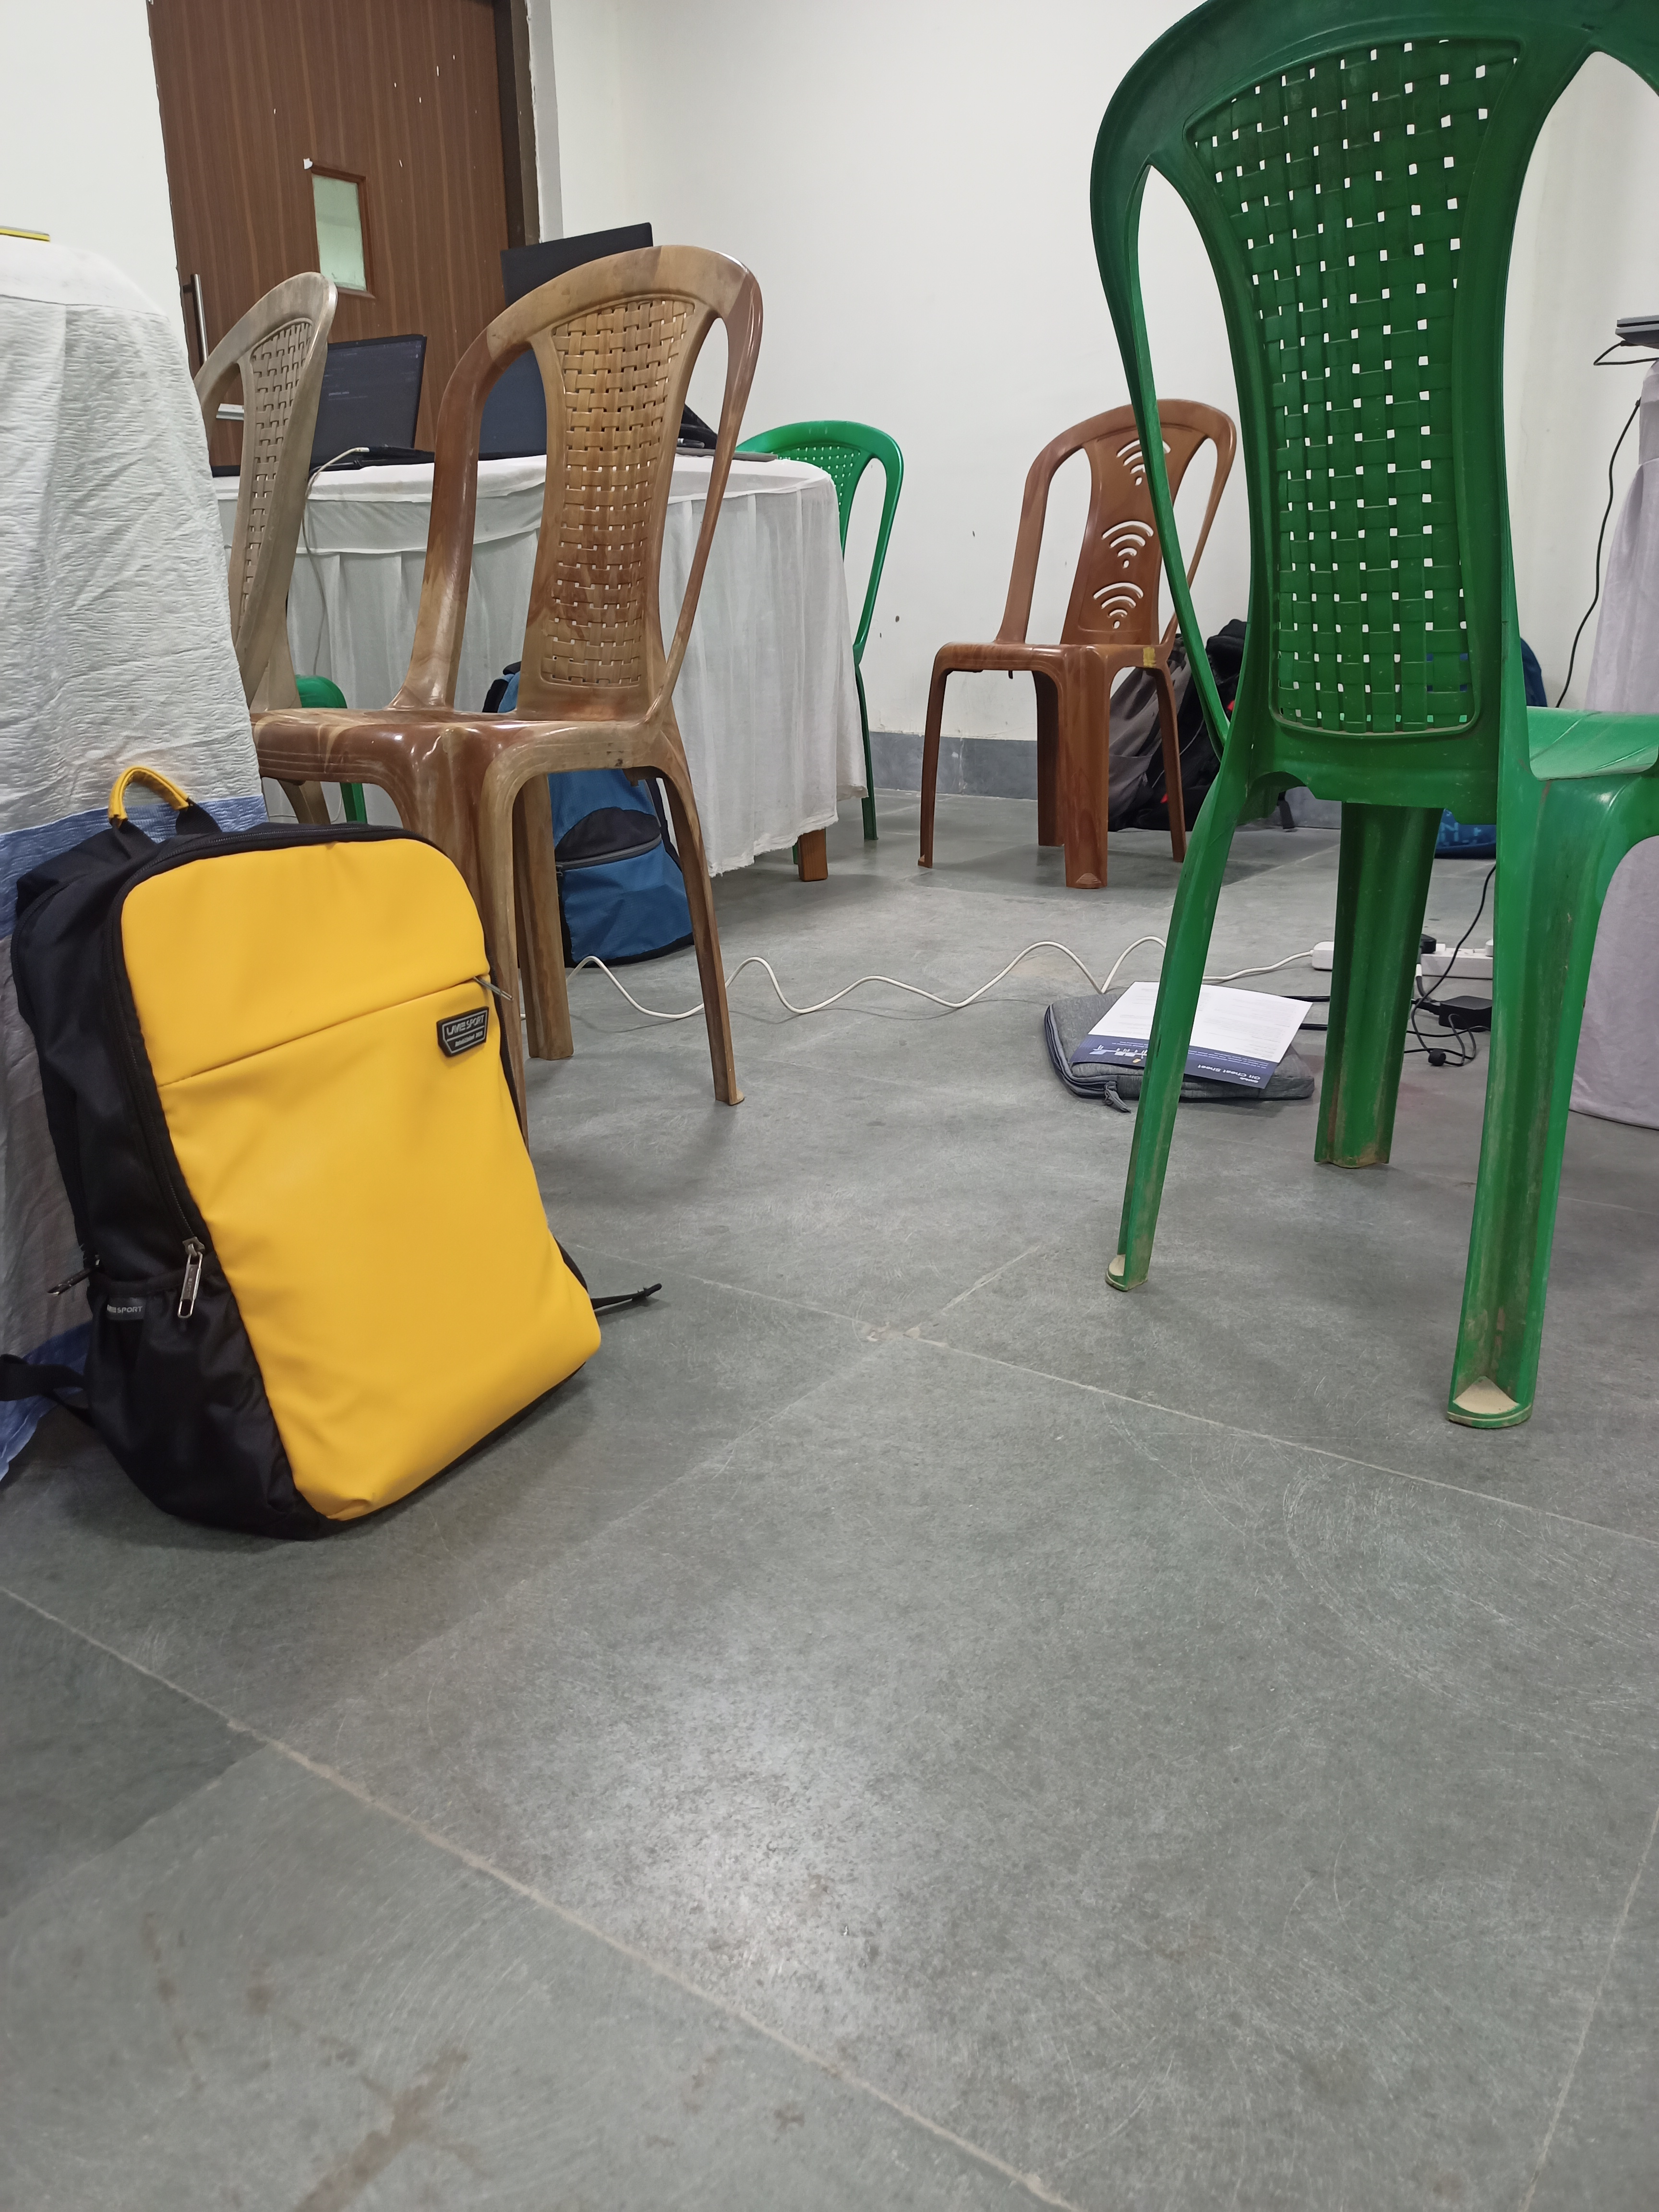Obstacle: (10, 406, 725, 1400), (1133, 127, 1659, 1374)
Path: (146, 1409, 1493, 2200)
